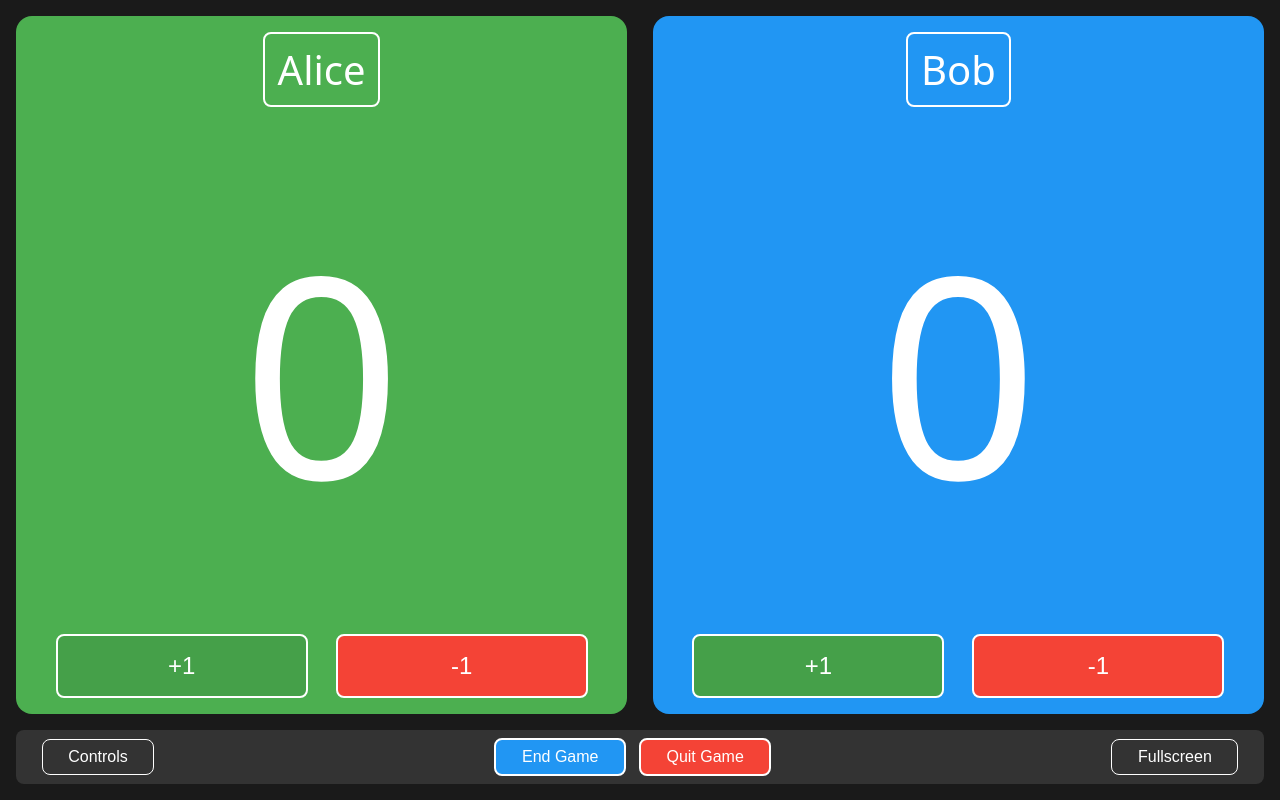
Test case: ending a game › refuses a tie and says why
Press 7
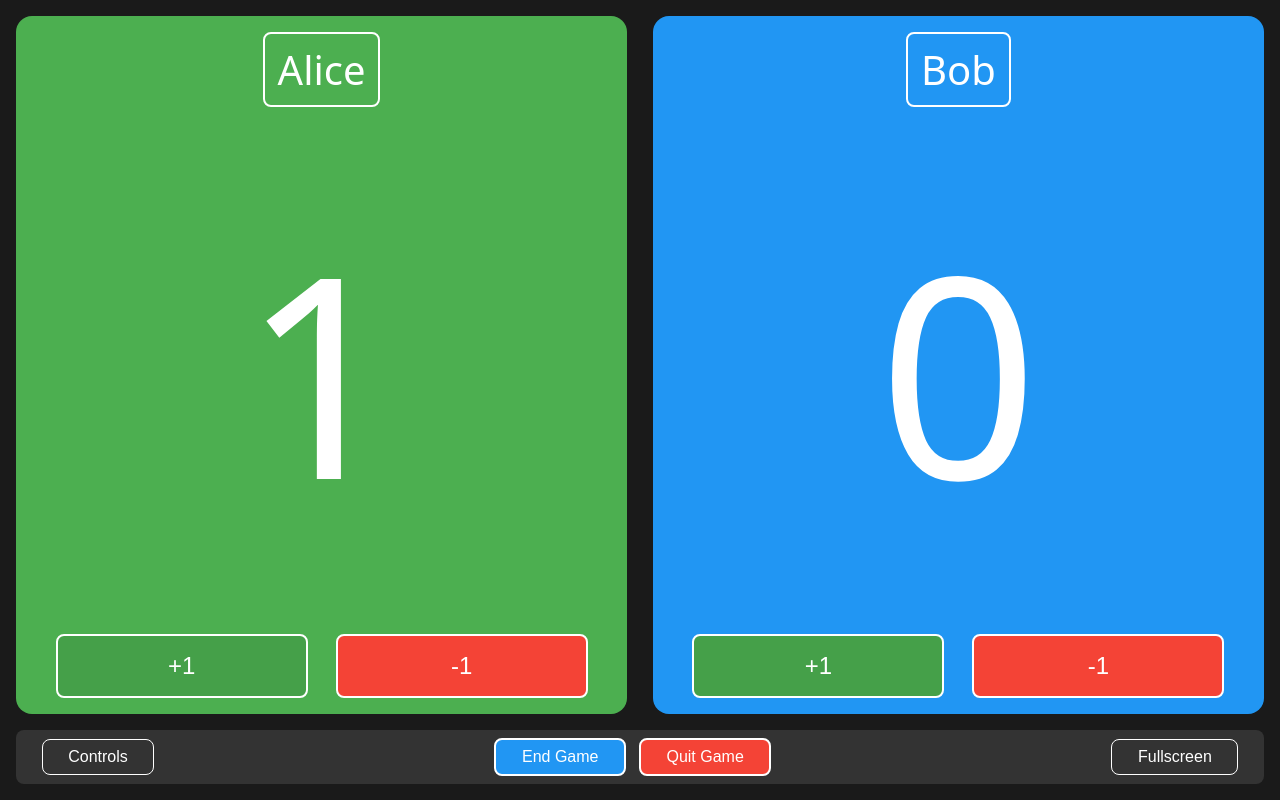
Press 4
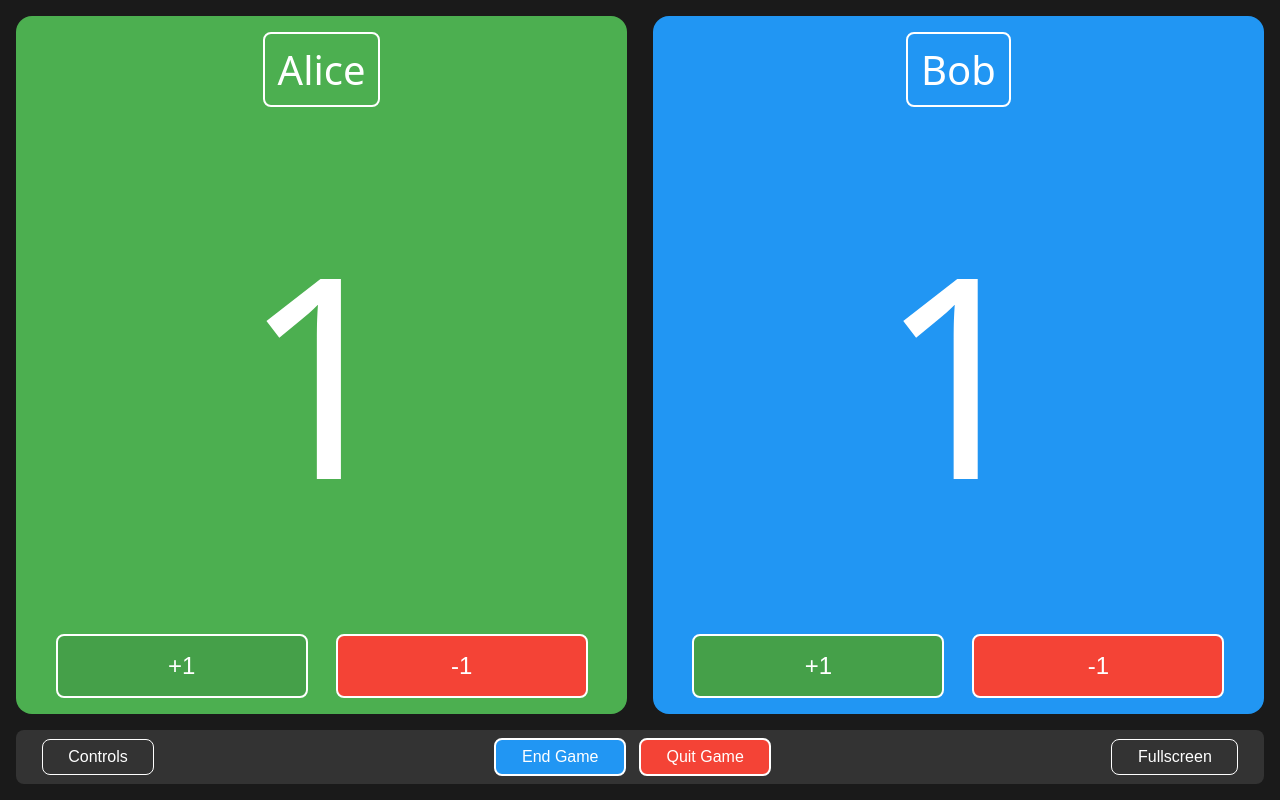
Click the button "End Game" at (560, 757), box left=494, top=738, right=626, bottom=776
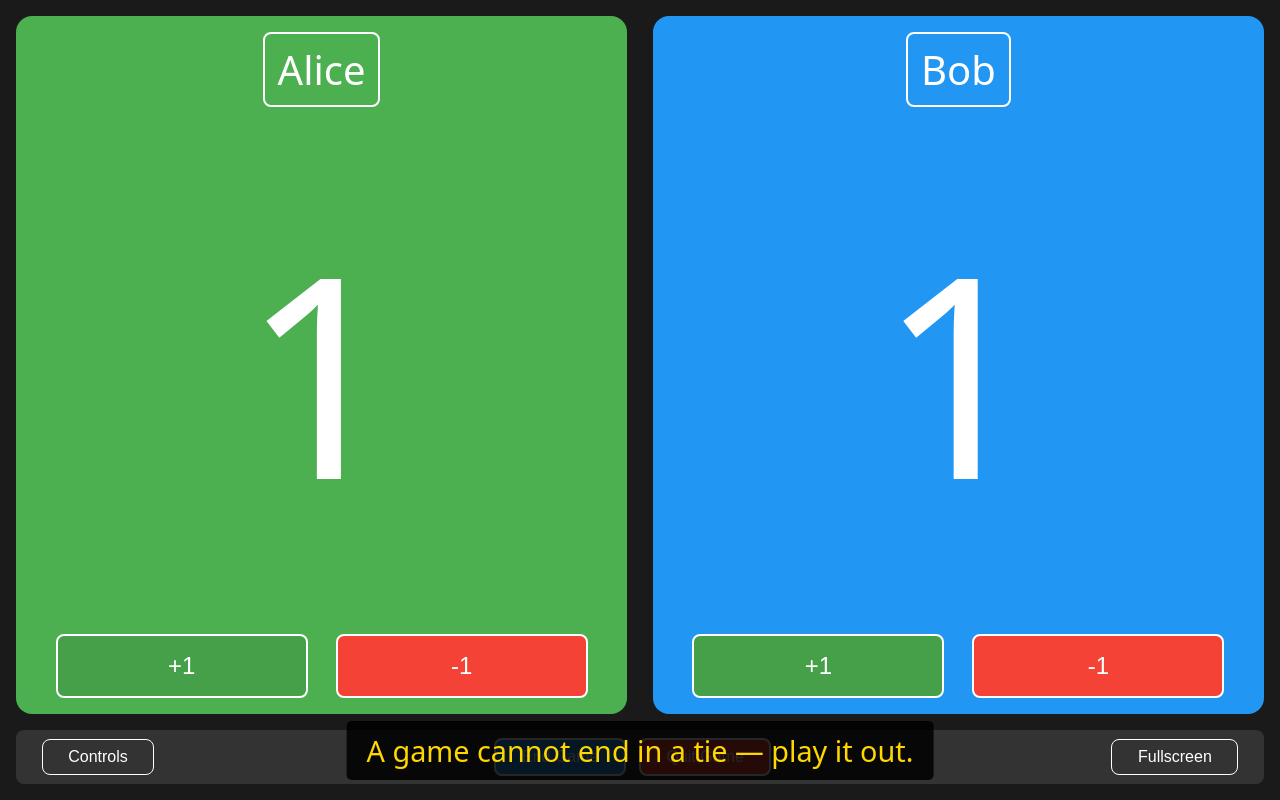
Expected: the text "A game cannot end in a tie — play it out." is shown, left=347, top=721, right=933, bottom=780
